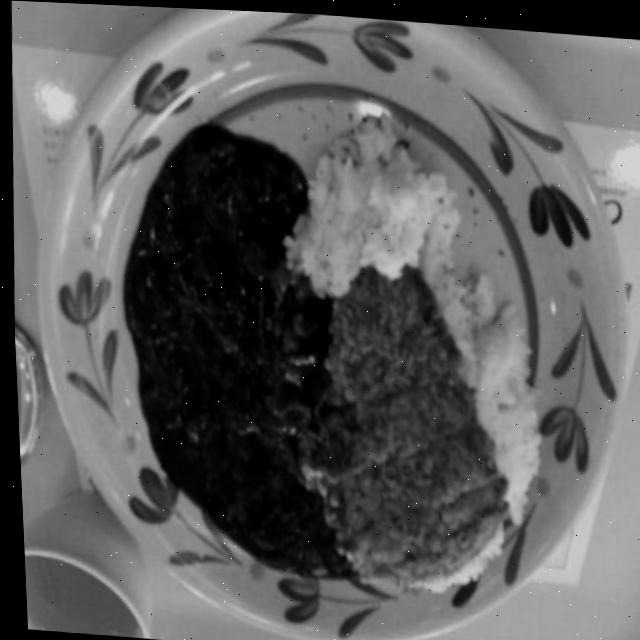猪肉菜式: (10, 0, 640, 640)
